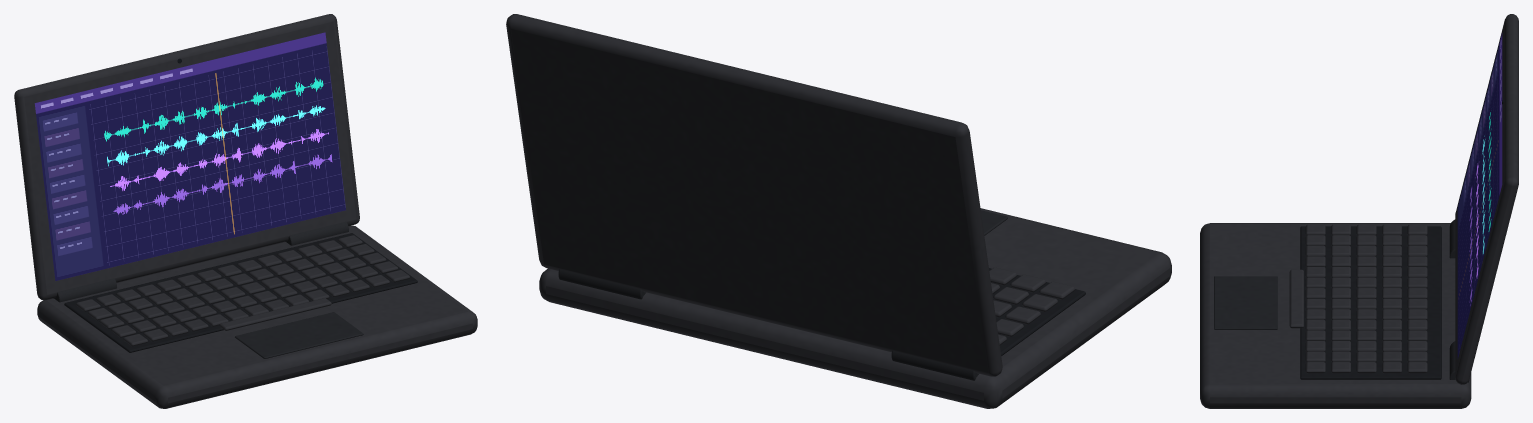
The model's file is 08_audio_laptop.glb.
3 views of the same model, side by side, from view 1: azimuth 30°, elevation 25°; view 2: azimuth 150°, elevation 25°; view 3: azimuth 270°, elevation 25° (orthographic). The views are drawn at different scales.
Visible parts, largest first — view 1: 08_audio_laptop__screen, 08_audio_laptop__base, 08_audio_laptop__lid, 08_audio_laptop__keyboard_recess, 08_audio_laptop__trackpad, 08_audio_laptop__spacebar, 08_audio_laptop__hinge.001, 08_audio_laptop__hinge; view 2: 08_audio_laptop__lid, 08_audio_laptop__base, 08_audio_laptop__keyboard_recess, 08_audio_laptop__hinge.001, 08_audio_laptop__hinge; view 3: 08_audio_laptop__base, 08_audio_laptop__keyboard_recess, 08_audio_laptop__screen, 08_audio_laptop__lid, 08_audio_laptop__trackpad, 08_audio_laptop__spacebar.
Part boxes in pixels (<box>): 08_audio_laptop__screen: <box>34,32,345,280</box>; 08_audio_laptop__base: <box>37,225,477,408</box>; 08_audio_laptop__lid: <box>14,14,359,300</box>; 08_audio_laptop__keyboard_recess: <box>64,233,417,352</box>; 08_audio_laptop__trackpad: <box>235,312,363,358</box>; 08_audio_laptop__spacebar: <box>219,298,331,330</box>; 08_audio_laptop__hinge.001: <box>285,221,348,245</box>; 08_audio_laptop__hinge: <box>53,278,116,302</box>; 08_audio_laptop__lid: <box>506,14,1002,376</box>; 08_audio_laptop__base: <box>539,208,1171,408</box>; 08_audio_laptop__keyboard_recess: <box>989,268,1085,355</box>; 08_audio_laptop__hinge.001: <box>558,269,645,299</box>; 08_audio_laptop__hinge: <box>891,350,978,380</box>; 08_audio_laptop__base: <box>1200,223,1471,408</box>; 08_audio_laptop__keyboard_recess: <box>1300,226,1441,379</box>; 08_audio_laptop__screen: <box>1457,33,1502,358</box>; 08_audio_laptop__lid: <box>1455,14,1518,384</box>; 08_audio_laptop__trackpad: <box>1214,276,1277,329</box>; 08_audio_laptop__spacebar: <box>1289,269,1303,328</box>.
Bounding box in the file's own units: 0.36 × 0.2346 × 0.2881.
Materials: 5 (5 with a texture image).
